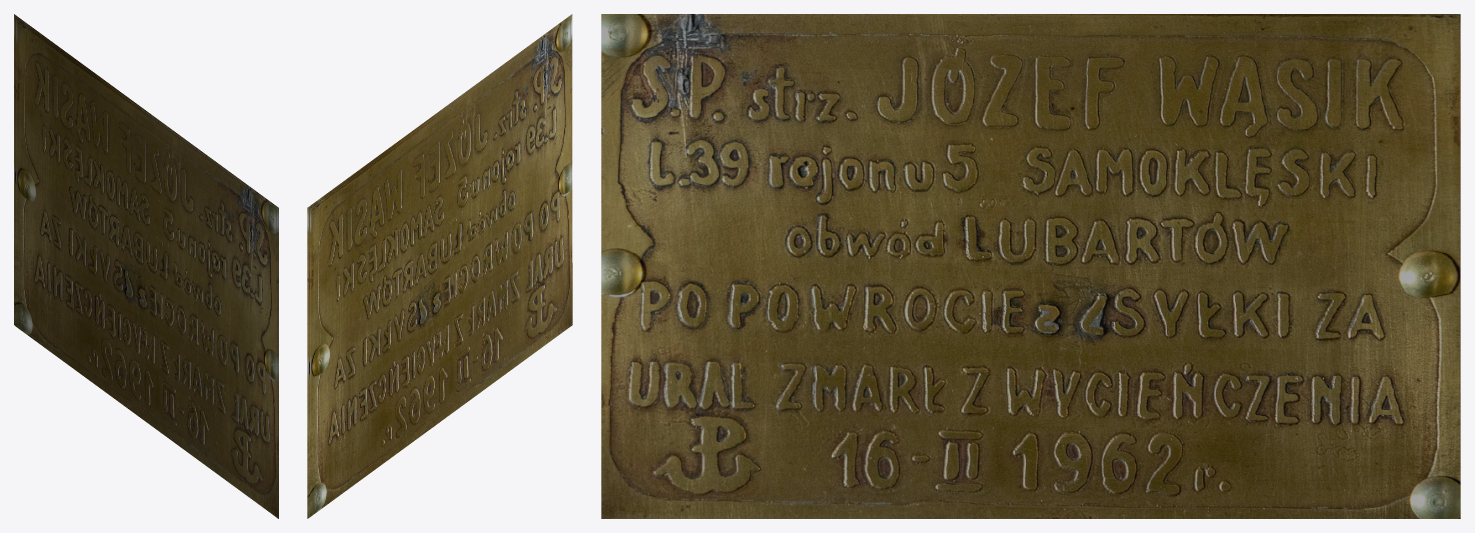
File: 74. Ś.P. strzelec JÓZEF WĄSIK.glb
The picture shows the model from 3 angles, left to right: view 1: azimuth 30°, elevation 25°; view 2: azimuth 150°, elevation 25°; view 3: azimuth 270°, elevation 25°; orthographic projection. The views are drawn at different scales.
Parts seen in each view (by area): view 1: Plane; view 2: Plane; view 3: Plane.
Boxes of the visible parts, box(x1,y1,x2,y2) form: Plane: box(14, 14, 278, 518); Plane: box(307, 14, 572, 518); Plane: box(601, 14, 1460, 518).
Bounding box in the file's own units: 0.0102 × 8.3 × 12.8.
1 material, 1 textured.
